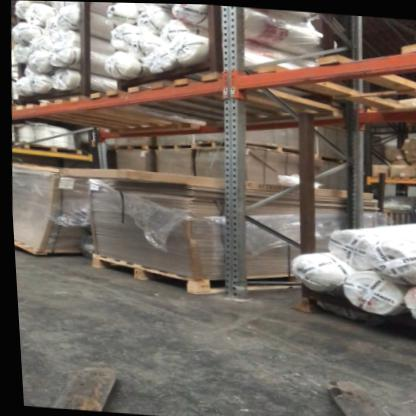vertical_damage: (215, 265, 249, 303)
